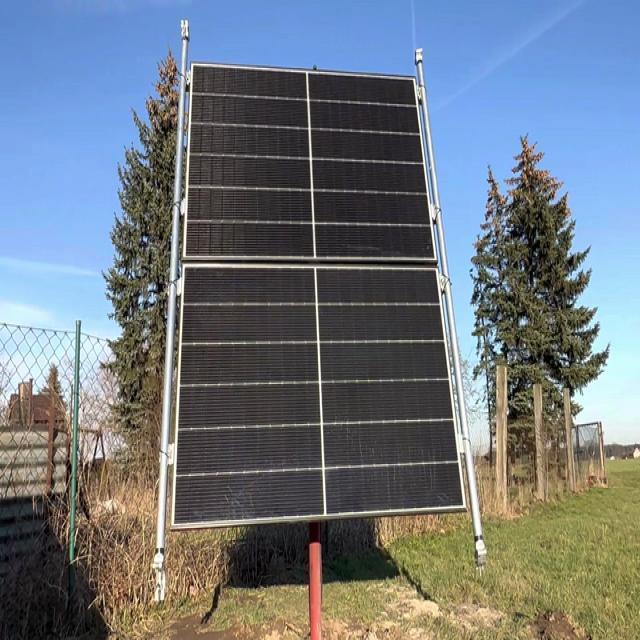Normal Solar Panel: (172, 62, 467, 527)
